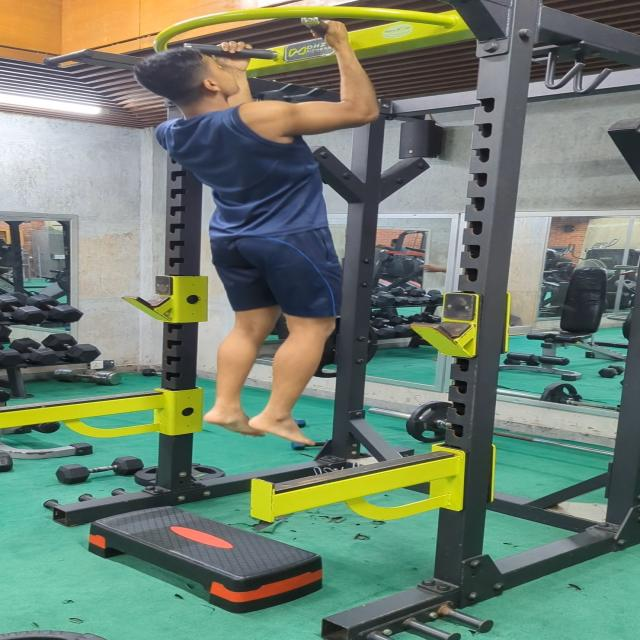Normal_PullUps: (128, 18, 386, 448)
